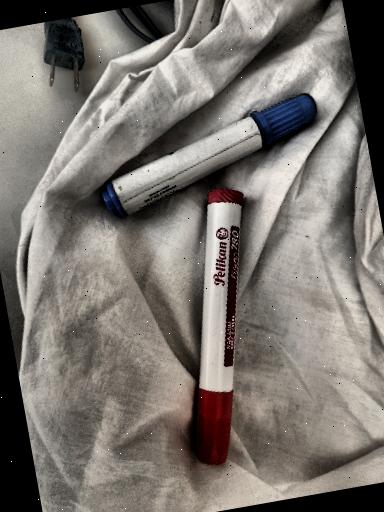marcador azul: (102, 94, 316, 217)
marcador rojo: (194, 189, 243, 465)
